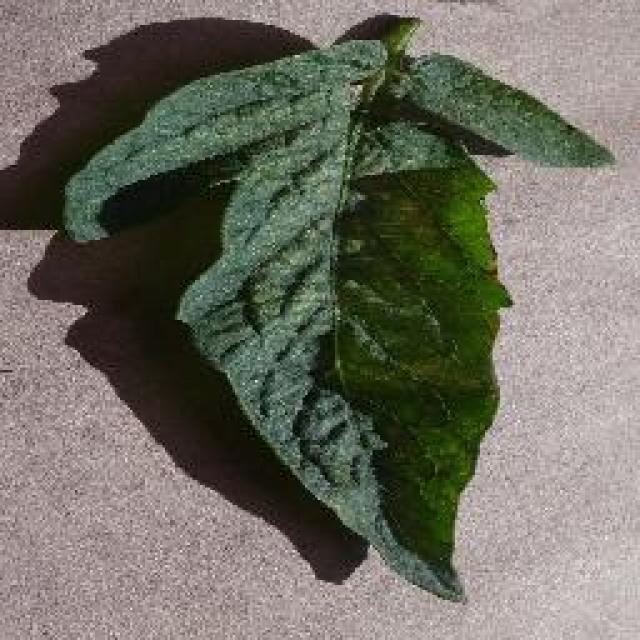Tomato___Spider_mites Two-spotted_spider_mite: (62, 18, 612, 600)
